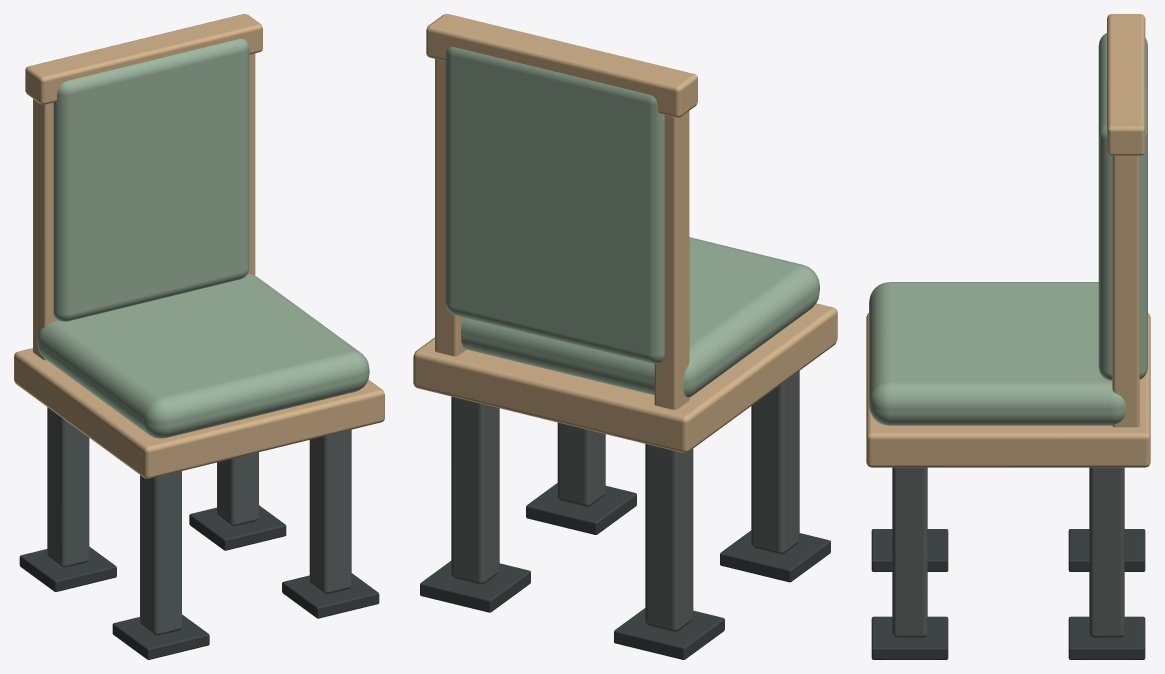
Rendered from public-library-and-reading-garden-public-library-and-r-e6a235b1__30921.glb.
3 renders of one model, left to right at view 1: azimuth 30°, elevation 25°; view 2: azimuth 150°, elevation 25°; view 3: azimuth 270°, elevation 25°, orthographic. The views are drawn at different scales.
Visible parts, largest first — view 1: public-library-and-reading-garden-reading-chair; view 2: public-library-and-reading-garden-reading-chair; view 3: public-library-and-reading-garden-reading-chair.
Part boxes in pixels (x1=…): public-library-and-reading-garden-reading-chair: x1=14, y1=14, x2=384, y2=659; public-library-and-reading-garden-reading-chair: x1=413, y1=14, x2=837, y2=659; public-library-and-reading-garden-reading-chair: x1=866, y1=14, x2=1150, y2=659.
Bounding box in the file's own units: 0.54 × 1.07 × 0.52.
